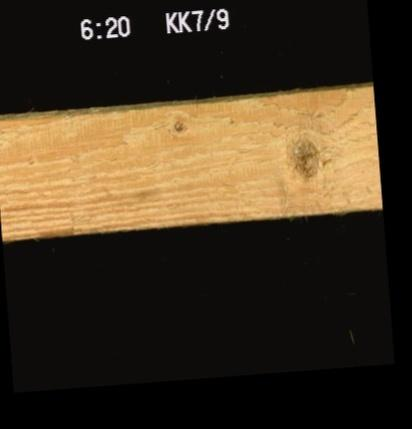small_knot: (168, 115, 189, 137)
sound_knot: (284, 130, 324, 184)
